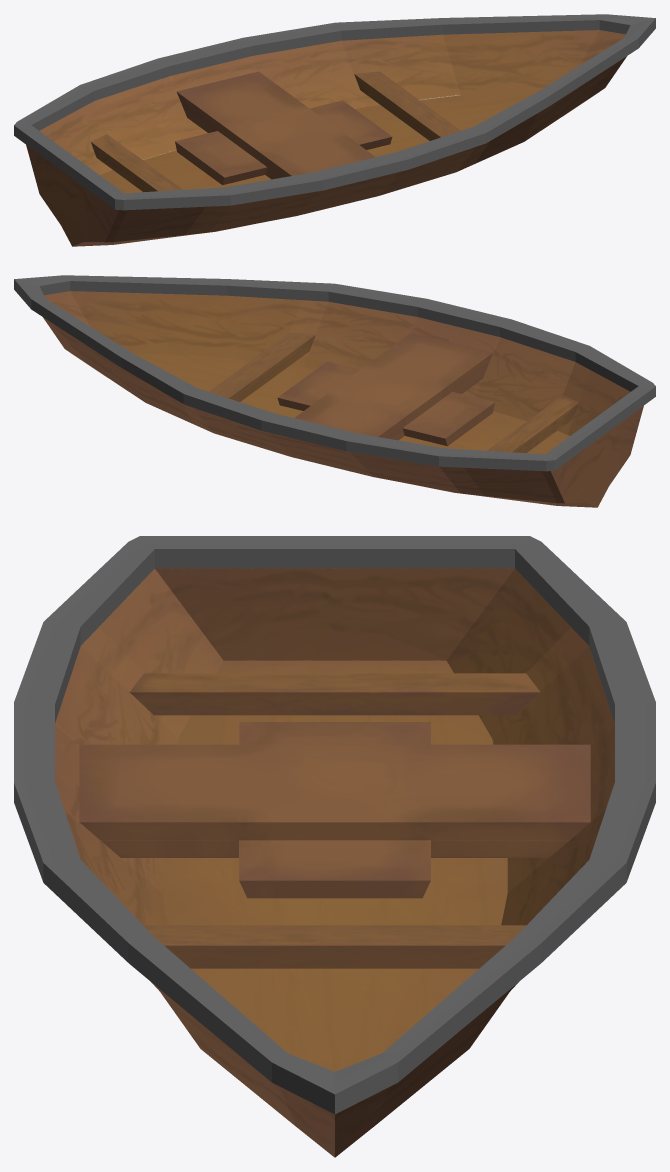
Rendered from RowBoat_Prototype.fbx.
3 renders of one model, top to bottom at view 1: azimuth 30°, elevation 25°; view 2: azimuth 150°, elevation 25°; view 3: azimuth 270°, elevation 25°, orthographic. The views are drawn at different scales.
Visible parts, largest first — view 1: RowBoat; view 2: RowBoat; view 3: RowBoat.
Boxes of the visible parts, x1,y1,x2,y2 form: RowBoat: (14, 14, 655, 246); RowBoat: (14, 275, 655, 507); RowBoat: (14, 536, 655, 1157).
Size of the model in its own units: 1232 by 199 by 599.
